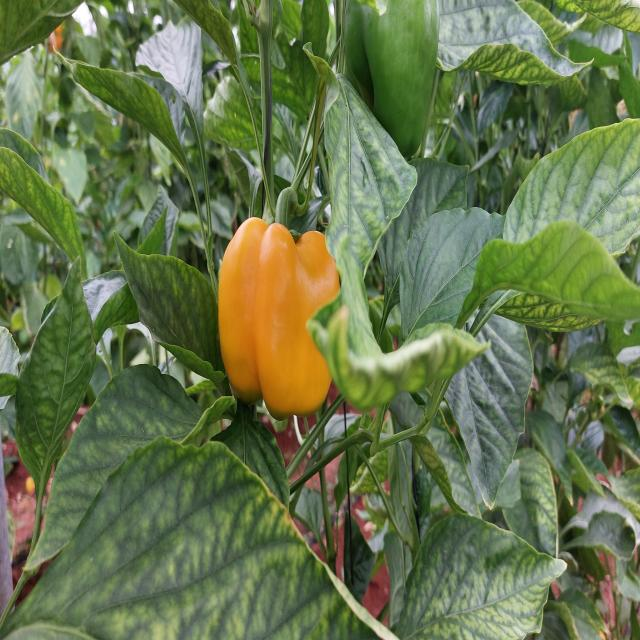Yellow-Ready-to-Harvest: (217, 212, 336, 420)
